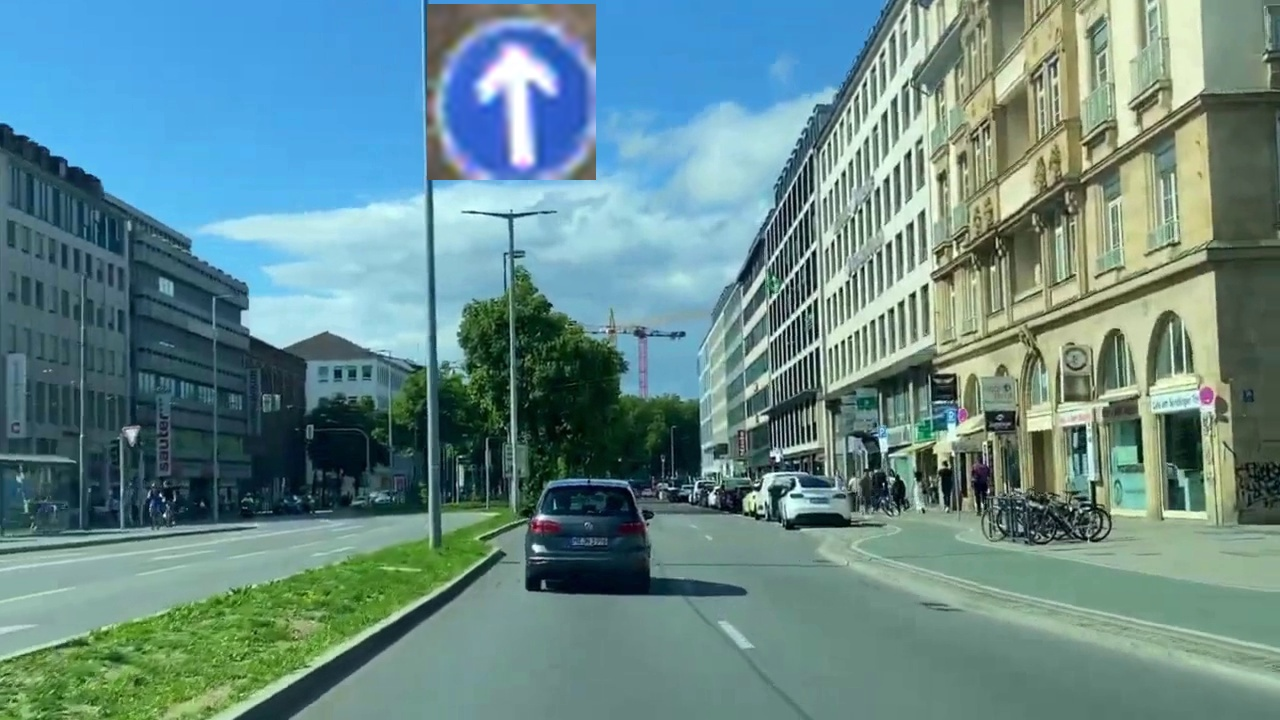Ahead only: (427, 4, 596, 180)
